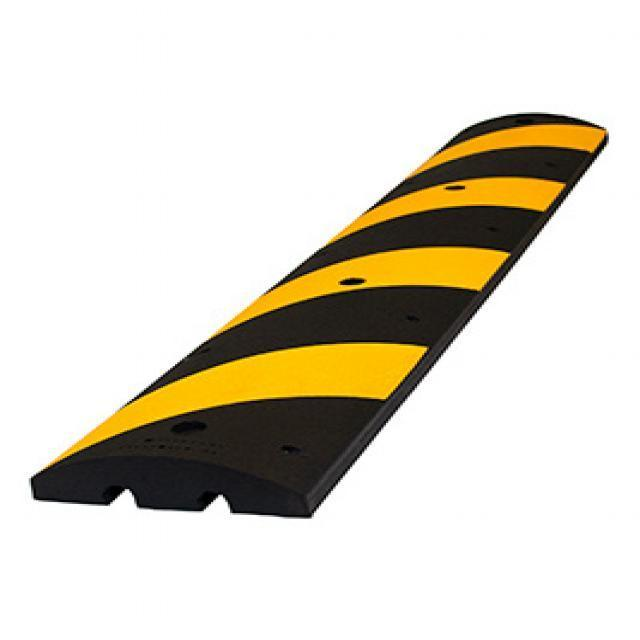Marked Bump: (53, 127, 562, 503)
